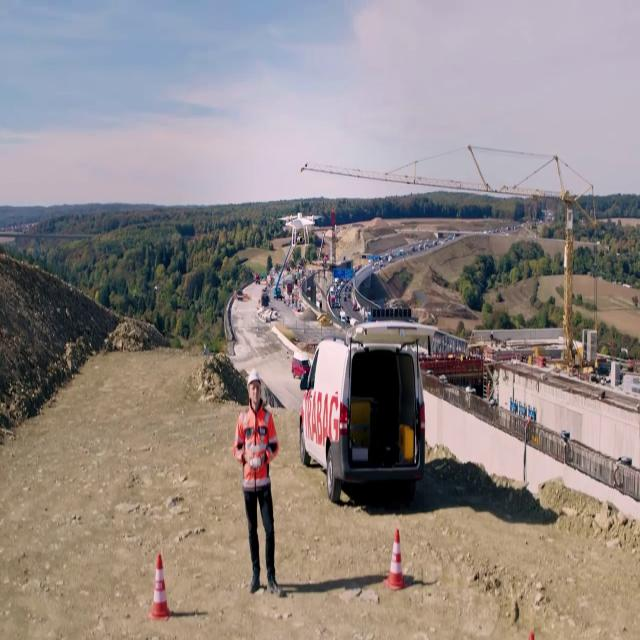drone: (280, 208, 322, 245)
